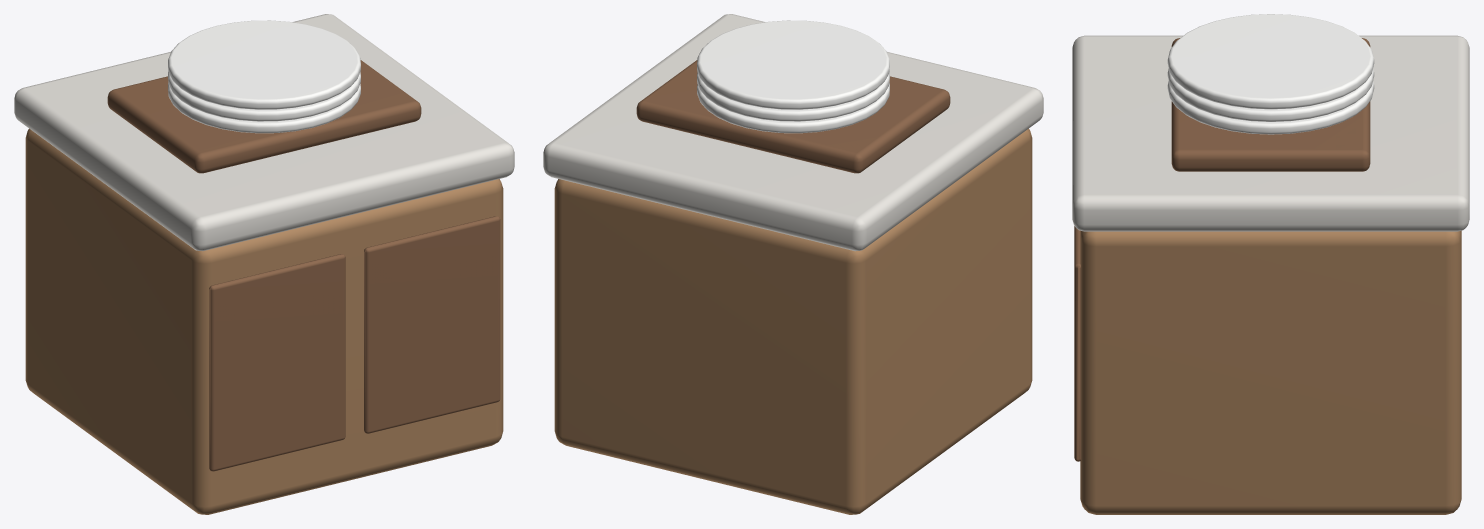
Rendered from plates.glb.
The picture shows the model from 3 angles, left to right: view 1: azimuth 30°, elevation 25°; view 2: azimuth 150°, elevation 25°; view 3: azimuth 270°, elevation 25°; orthographic projection. The views are drawn at different scales.
Visible parts, largest first — view 1: cabinet, top, door-0.24, door0.24, plate2, rack, plate1, plate0; view 2: cabinet, top, plate2, rack, plate1, plate0; view 3: cabinet, top, plate2, rack, plate0, plate1, door0.24.
Boxes of the visible parts, x1=… form: cabinet: x1=25, y1=128, x2=503, y2=514; top: x1=14, y1=14, x2=514, y2=251; door-0.24: x1=209, y1=254, x2=345, y2=471; door0.24: x1=364, y1=216, x2=500, y2=433; plate2: x1=168, y1=20, x2=360, y2=109; rack: x1=107, y1=60, x2=421, y2=173; plate1: x1=168, y1=71, x2=360, y2=121; plate0: x1=168, y1=83, x2=360, y2=133; cabinet: x1=554, y1=128, x2=1032, y2=514; top: x1=543, y1=14, x2=1043, y2=251; plate2: x1=697, y1=20, x2=889, y2=109; rack: x1=636, y1=60, x2=950, y2=173; plate1: x1=697, y1=71, x2=889, y2=121; plate0: x1=697, y1=83, x2=889, y2=133; cabinet: x1=1080, y1=230, x2=1461, y2=514; top: x1=1072, y1=35, x2=1469, y2=231; plate2: x1=1167, y1=14, x2=1374, y2=109; rack: x1=1171, y1=38, x2=1370, y2=171; plate0: x1=1167, y1=81, x2=1374, y2=134; plate1: x1=1167, y1=68, x2=1374, y2=121; door0.24: x1=1074, y1=226, x2=1080, y2=461.
Size of the model in its own units: 1 by 1.06 by 1.
